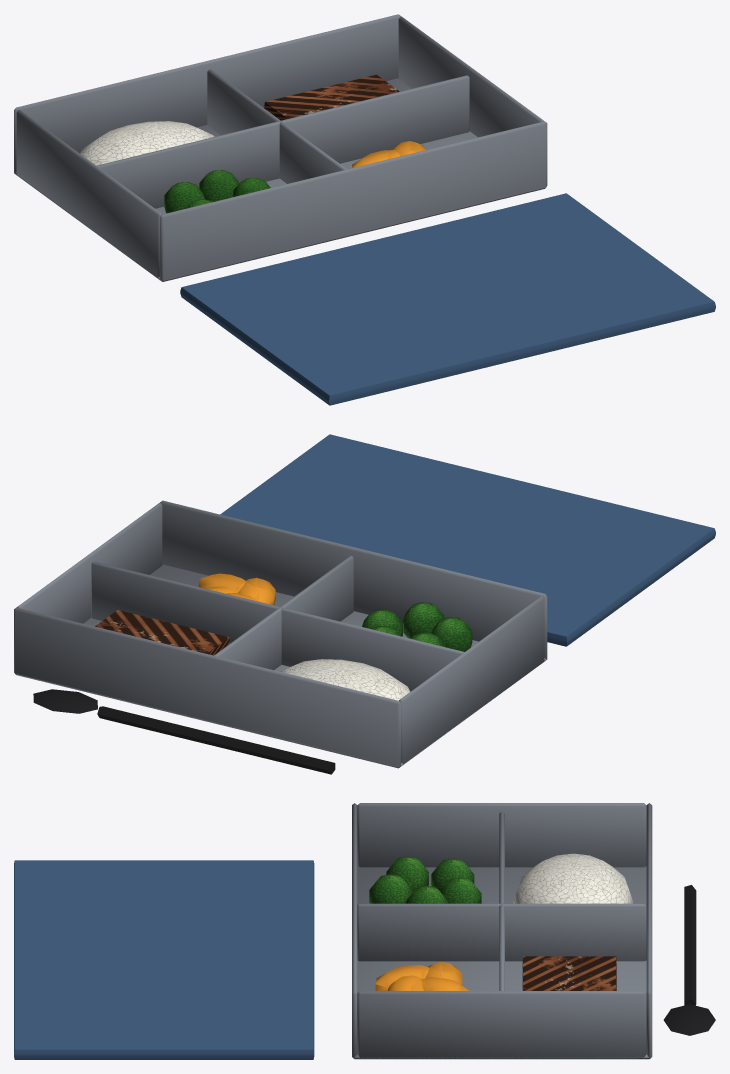
File: ration_bento_ration_box.glb
3 views of the same model, one above another, from view 1: azimuth 30°, elevation 25°; view 2: azimuth 150°, elevation 25°; view 3: azimuth 270°, elevation 25° (orthographic).
Visible parts, largest first — view 1: ration_bento_ration_box; view 2: ration_bento_ration_box; view 3: ration_bento_ration_box.
Part boxes in pixels (x1,y1,x2,y2): ration_bento_ration_box: (14, 14, 715, 405); ration_bento_ration_box: (14, 434, 715, 774); ration_bento_ration_box: (14, 803, 715, 1059).
Size of the model in its own units: 0.24 by 0.051 by 0.374.
Materials: 7 (3 with a texture image).
